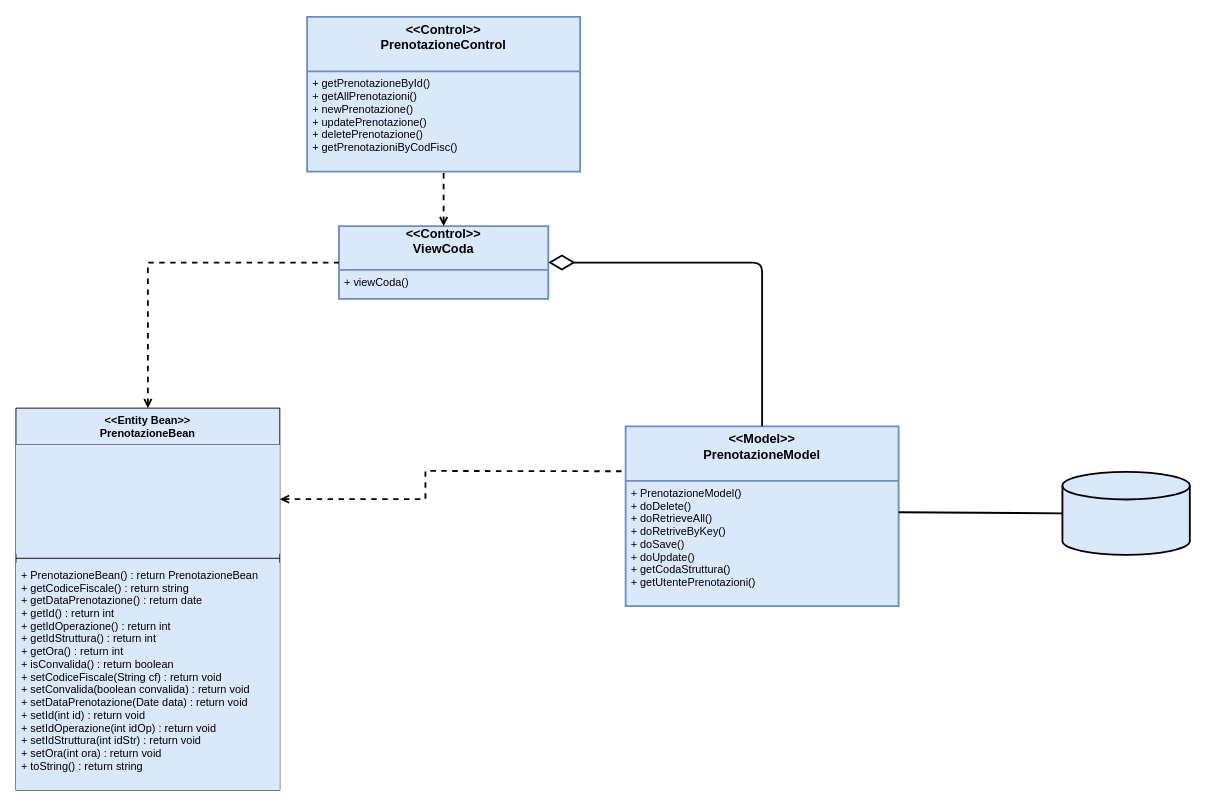
The diagram is 1207 pixels wide and 808 high, and some of its shapes have lost their labels. The shapes that lost their labels are listed below. From the top down, each one's centre as x and y in pixels, then its label:
point (147, 498): + id + ora + data + codiceFiscale + id Operazione + id Struttura + convalida
point (1125, 512): Database
